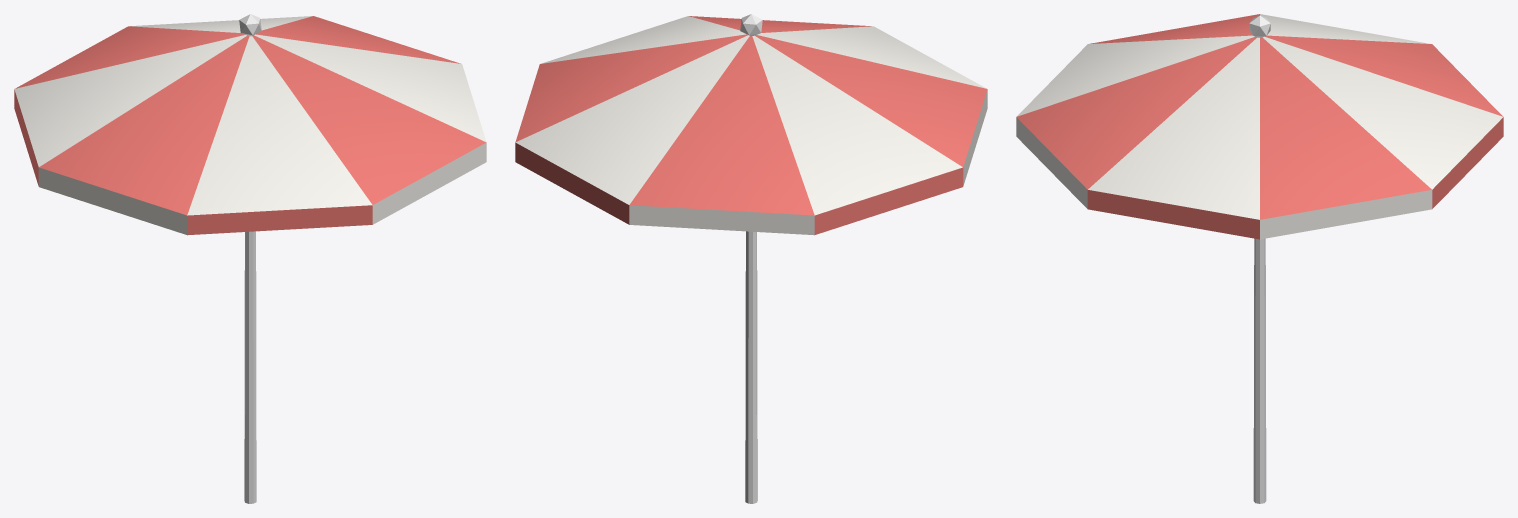
File: guarda_sol.glb
3 renders of one model, left to right at view 1: azimuth 30°, elevation 25°; view 2: azimuth 150°, elevation 25°; view 3: azimuth 270°, elevation 25°, orthographic.
Parts seen in each view (by area): view 1: guarda_sol; view 2: guarda_sol; view 3: guarda_sol.
Part boxes in pixels (x1,y1,x2,y2): guarda_sol: [14, 14, 486, 503]; guarda_sol: [515, 14, 987, 503]; guarda_sol: [1016, 14, 1503, 503].
Size of the model in its own units: 2.7 by 2.97 by 2.7.
